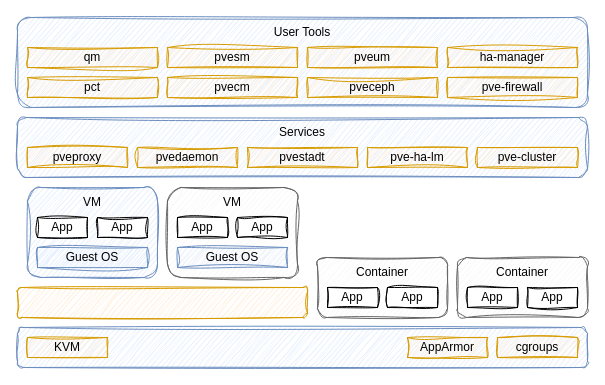
Some shapes in this 605 by 385 pixel diagram are drawn without their labels. Each missing label, with the box of its shape:
Linux Kernel: (16, 326, 588, 368)
QUEMU: (16, 286, 308, 318)
